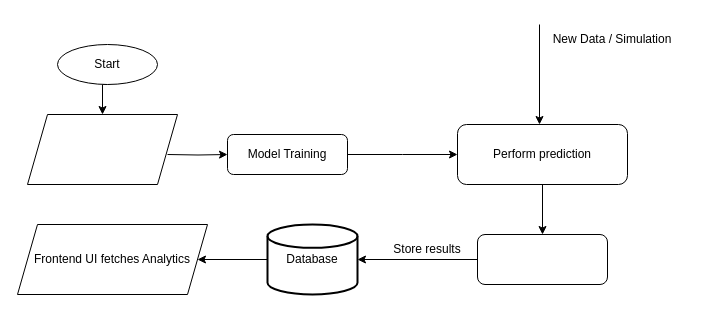
Some shapes in this 705 by 313 pixel diagram are drawn without their labels. Here are the shapes that lost their labels. From the top down, the centre of each, then its label:
the point at 102,149: Import Health data (currently simulated)
the point at 542,259: Generate explainable results
